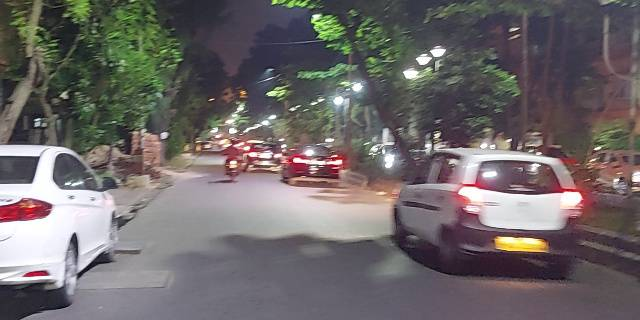Car: (392, 149, 585, 276), (283, 143, 341, 186), (241, 139, 284, 171)
Motorbike: (223, 133, 244, 183)
